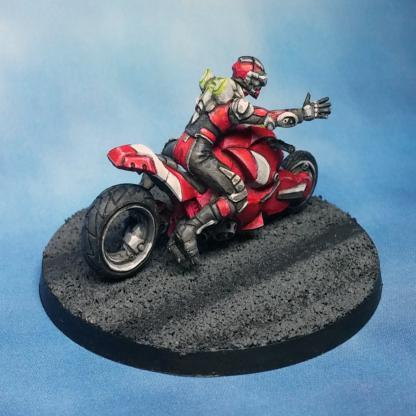motorcycle: (81, 124, 318, 280)
